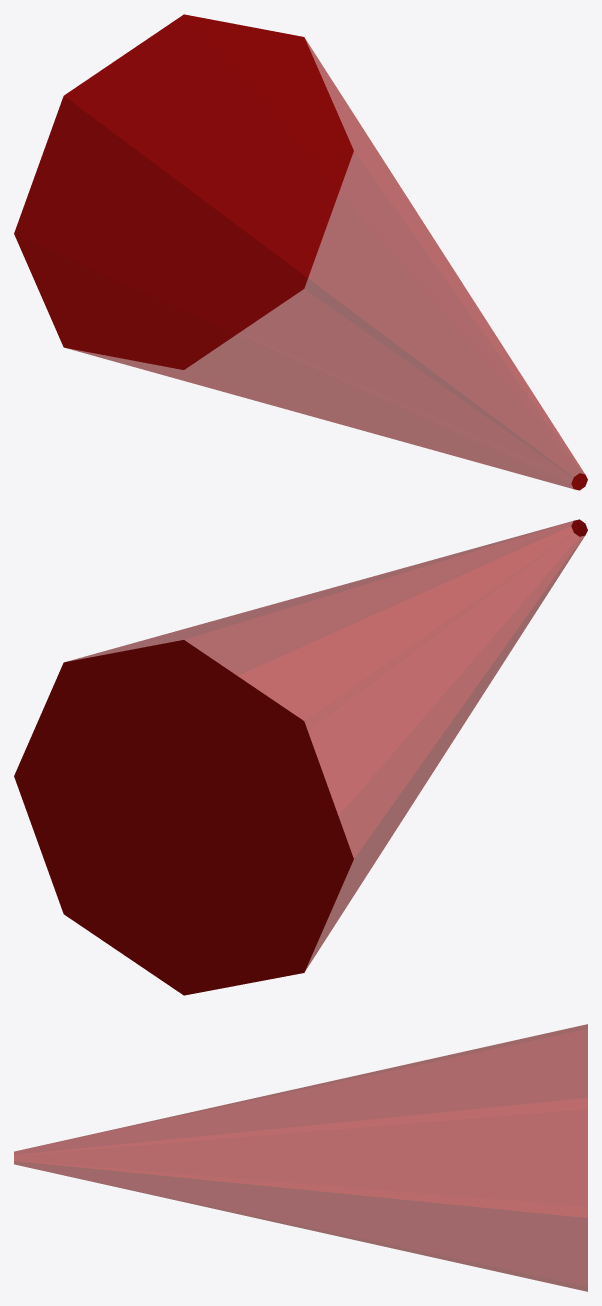
The model's file is Bunner_F16_ThanderBirdsNG.obj.
3 views of the same model, one above another, from view 1: azimuth 30°, elevation 25°; view 2: azimuth 150°, elevation 25°; view 3: azimuth 270°, elevation 25° (orthographic). The views are drawn at different scales.
Visible parts, largest first — view 1: ShapeIndexedFaceSet.021_ShapeIndexedFaceSet.022, ShapeIndexedFaceSet.020_ShapeIndexedFaceSet.021; view 2: ShapeIndexedFaceSet.020_ShapeIndexedFaceSet.021, ShapeIndexedFaceSet.021_ShapeIndexedFaceSet.022; view 3: ShapeIndexedFaceSet.021_ShapeIndexedFaceSet.022.
Part boxes in pixels (x1=…): ShapeIndexedFaceSet.021_ShapeIndexedFaceSet.022: x1=14, y1=14, x2=584, y2=488; ShapeIndexedFaceSet.020_ShapeIndexedFaceSet.021: x1=14, y1=14, x2=587, y2=490; ShapeIndexedFaceSet.020_ShapeIndexedFaceSet.021: x1=14, y1=519, x2=587, y2=995; ShapeIndexedFaceSet.021_ShapeIndexedFaceSet.022: x1=66, y1=519, x2=587, y2=970; ShapeIndexedFaceSet.021_ShapeIndexedFaceSet.022: x1=14, y1=1024, x2=587, y2=1291.
Bounding box in the file's own units: 6.5 × 6.5 × 13.1.
